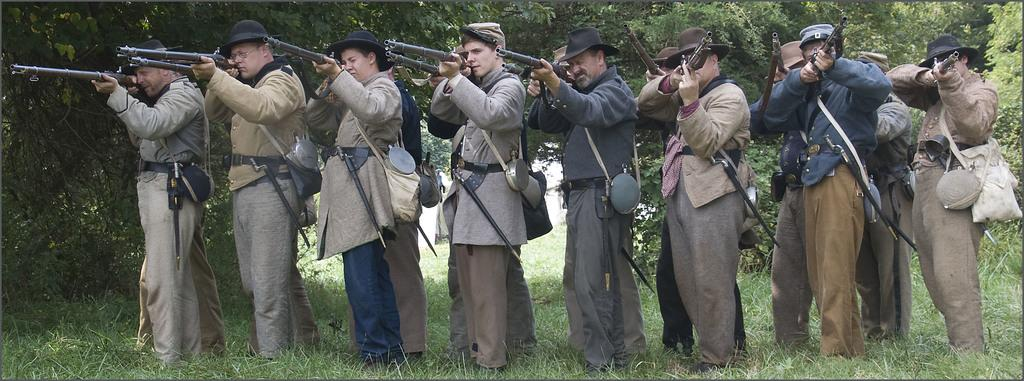Rifle: (110, 35, 246, 93), (5, 56, 138, 85), (259, 31, 338, 71), (381, 31, 461, 65), (492, 46, 572, 76)
